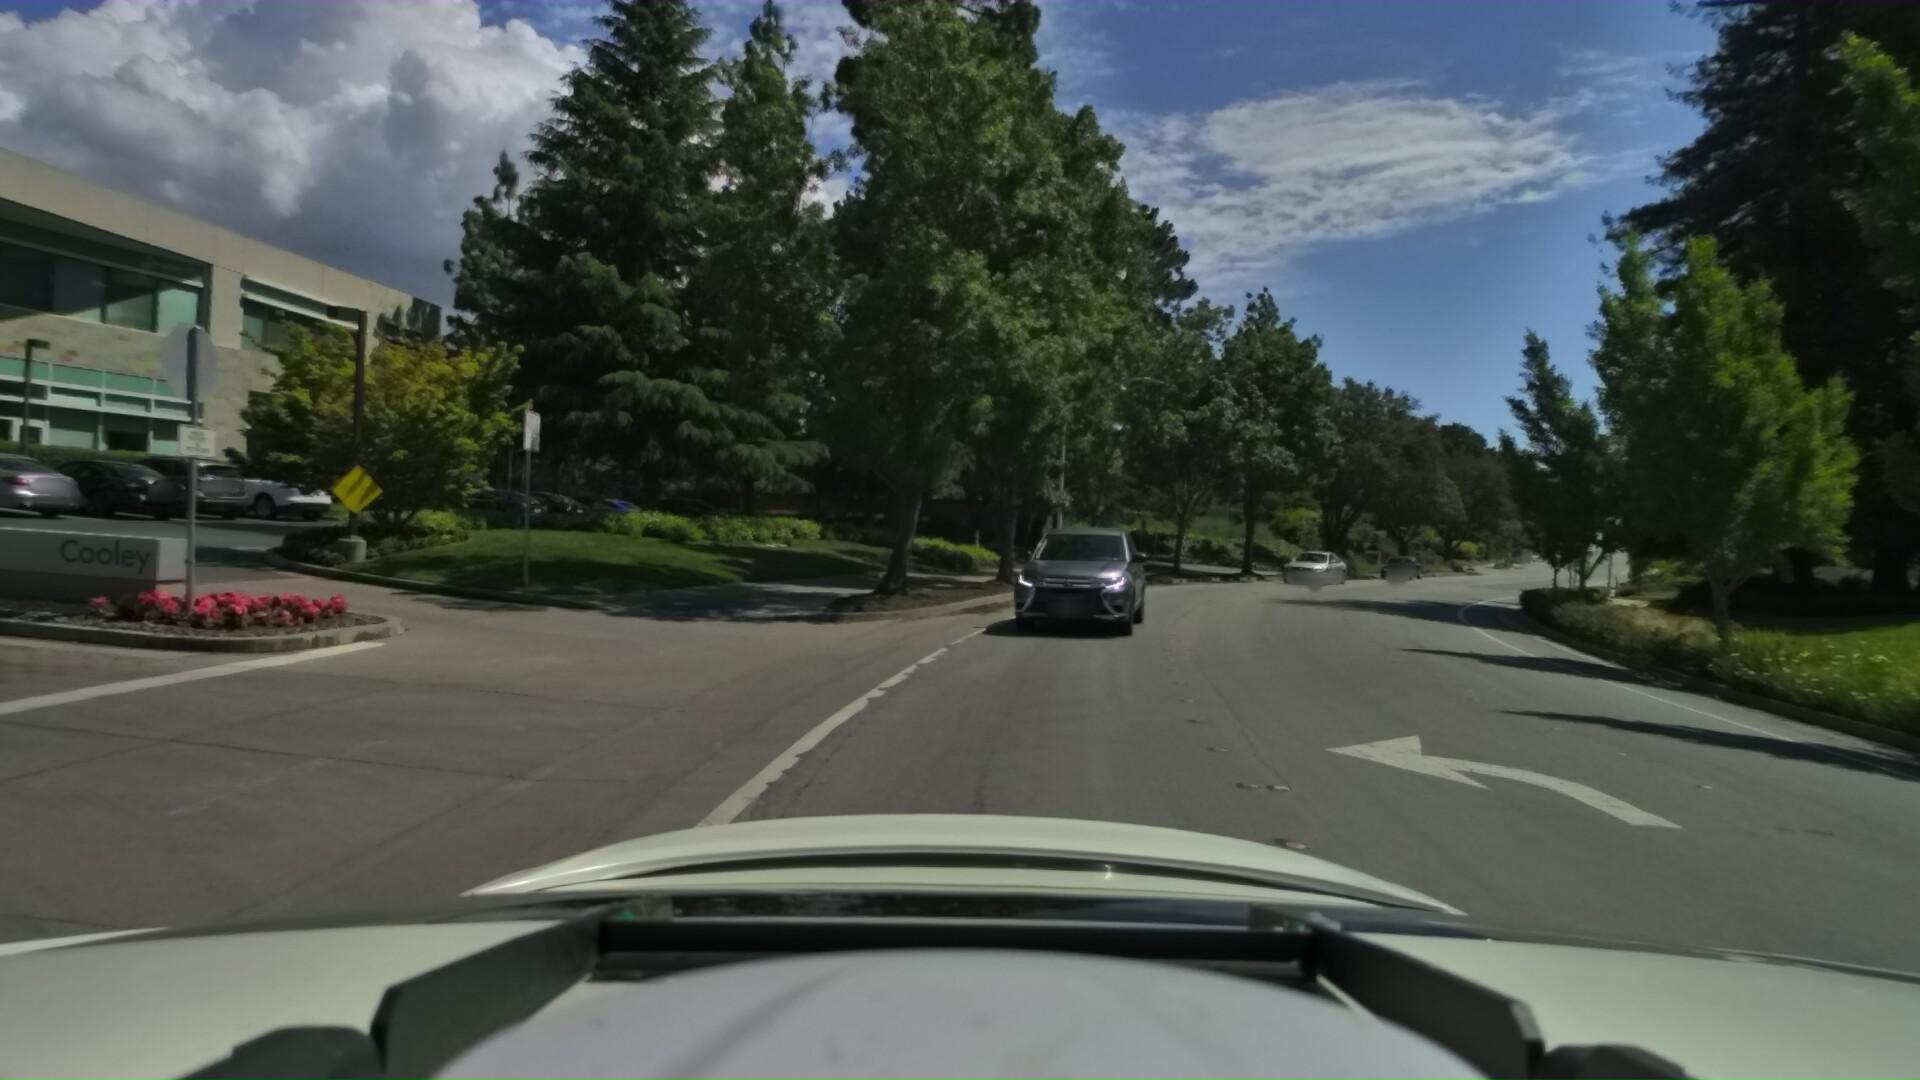car: (1007, 509, 1158, 634), (1278, 539, 1353, 583), (1375, 547, 1425, 576)
